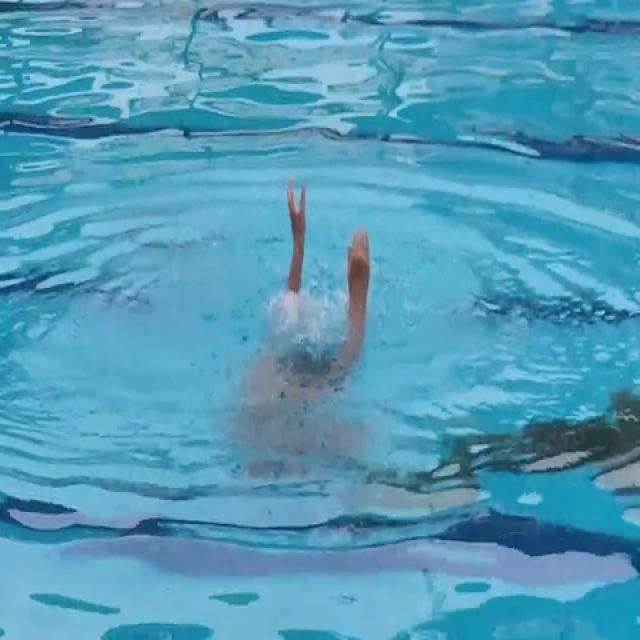Drowning: (274, 163, 376, 343)
